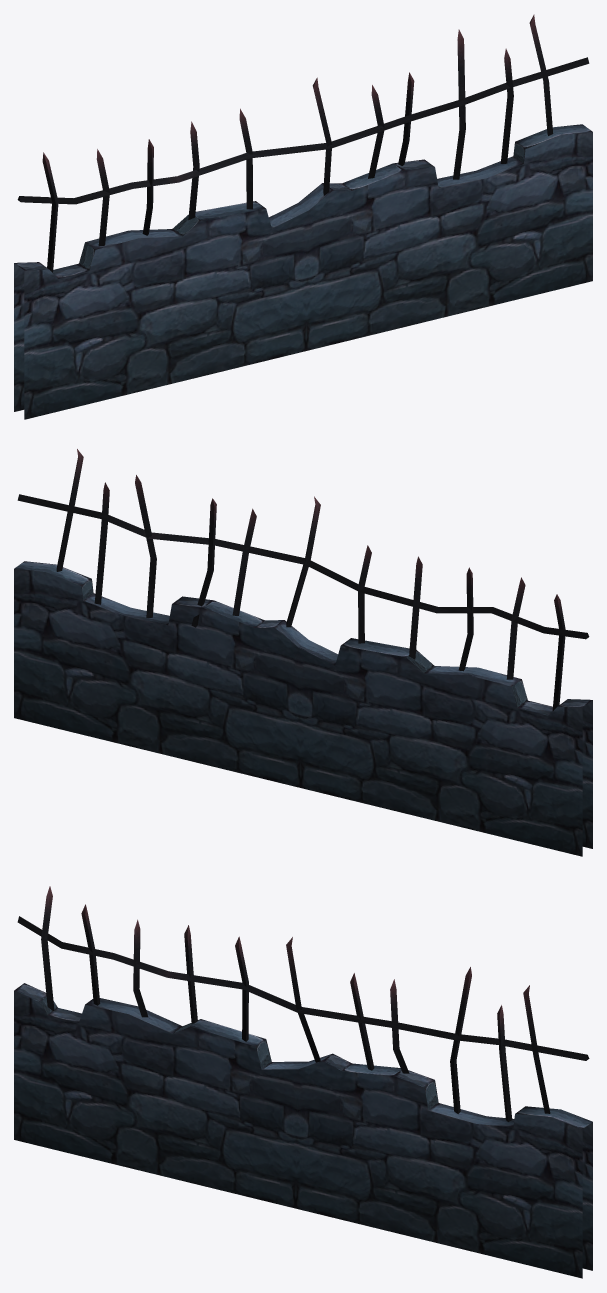
File: LowWall_B.fbx
3 views of the same model, one above another, from view 1: azimuth 30°, elevation 25°; view 2: azimuth 150°, elevation 25°; view 3: azimuth 330°, elevation 25° (orthographic).
Parts seen in each view (by area): view 1: LowWall_B; view 2: LowWall_B; view 3: LowWall_B.
Boxes of the visible parts, left/top/right/bottom form: LowWall_B: left=14, top=14, right=592, bottom=419; LowWall_B: left=14, top=449, right=592, bottom=856; LowWall_B: left=14, top=886, right=592, bottom=1278.
Size of the model in its own units: 242 by 113 by 17.82.
1 material, 1 textured.
